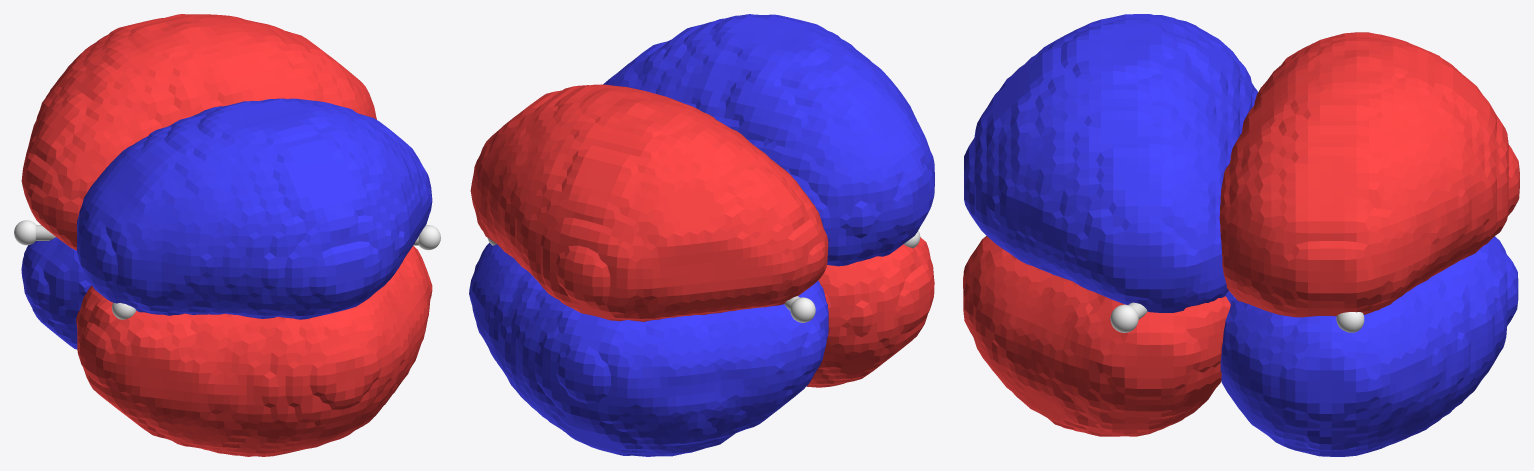
Rendered from benzene.glb.
The picture shows the model from 3 angles, left to right: view 1: azimuth 30°, elevation 25°; view 2: azimuth 150°, elevation 25°; view 3: azimuth 270°, elevation 25°; orthographic projection. The views are drawn at different scales.
Visible parts, largest first — view 1: MO_HOMO_Benzene, Atom_Benzene_8_H, Atom_Benzene_11_H; view 2: MO_HOMO_Benzene, Atom_Benzene_8_H; view 3: MO_HOMO_Benzene, Atom_Benzene_11_H.
Boxes of the visible parts, <box> form: MO_HOMO_Benzene: <box>21,14,432,456</box>; Atom_Benzene_8_H: <box>14,220,35,245</box>; Atom_Benzene_11_H: <box>418,225,440,250</box>; MO_HOMO_Benzene: <box>469,14,934,456</box>; Atom_Benzene_8_H: <box>790,297,815,322</box>; MO_HOMO_Benzene: <box>963,14,1519,456</box>; Atom_Benzene_11_H: <box>1110,304,1138,332</box>.
Size of the model in its own units: 5.04 by 4.53 by 6.12.
